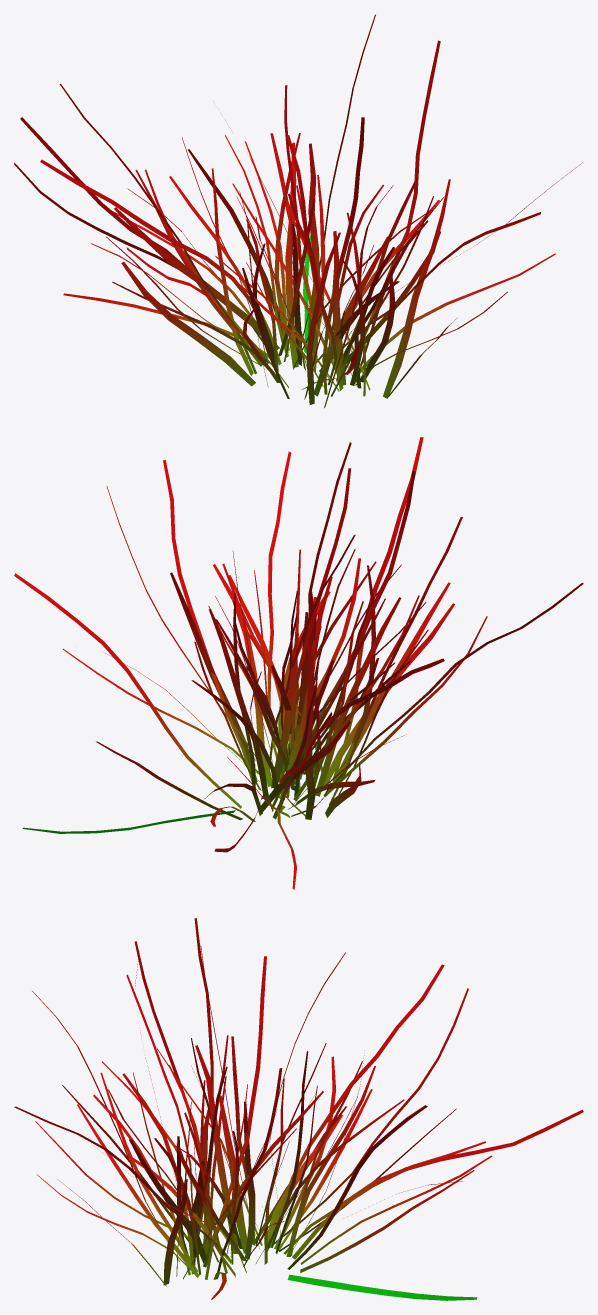
The model's file is Var5_LOD1.fbx.
3 views of the same model, one above another, from view 1: azimuth 30°, elevation 25°; view 2: azimuth 150°, elevation 25°; view 3: azimuth 270°, elevation 25° (orthographic). The views are drawn at different scales.
Parts seen in each view (by area): view 1: _duoe_Var5_LOD1; view 2: _duoe_Var5_LOD1; view 3: _duoe_Var5_LOD1.
Part boxes in pixels (<box>): _duoe_Var5_LOD1: <box>14,14,582,407</box>; _duoe_Var5_LOD1: <box>14,437,583,889</box>; _duoe_Var5_LOD1: <box>14,918,583,1300</box>.
Size of the model in its own units: 35.91 by 23.48 by 39.88.
